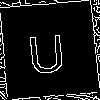U: (24, 25, 68, 74)
